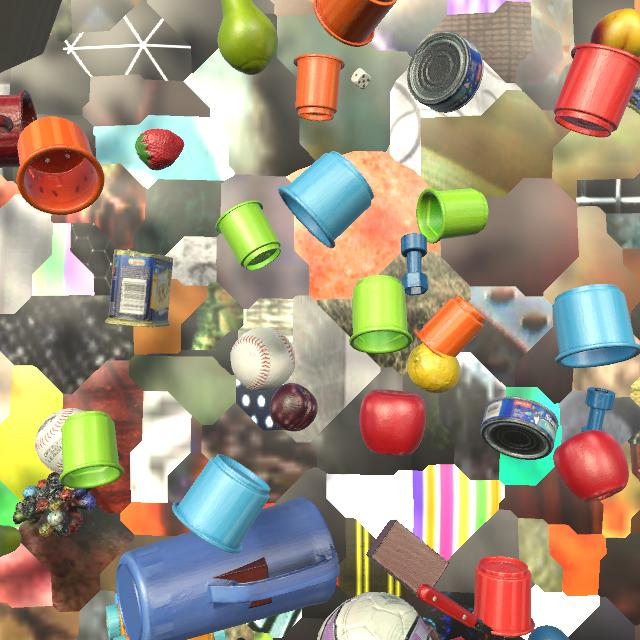ycb_007_tuna_fish_can: (407, 32, 484, 113), (480, 396, 559, 460)
ycb_009_gelatin_box: (450, 636, 464, 640)
ycb_010_potted_meat_can: (105, 249, 173, 327), (627, 77, 640, 114)
ycb_012_strawberry: (135, 129, 184, 170)
ycb_013_apple: (553, 430, 629, 503), (359, 389, 426, 456)
ycb_014_lemon: (407, 343, 460, 393)
ycb_015_peach: (590, 8, 640, 58)
ycb_016_pear: (218, 0, 278, 75), (0, 525, 21, 557)
ycb_018_plum: (270, 383, 318, 432)
